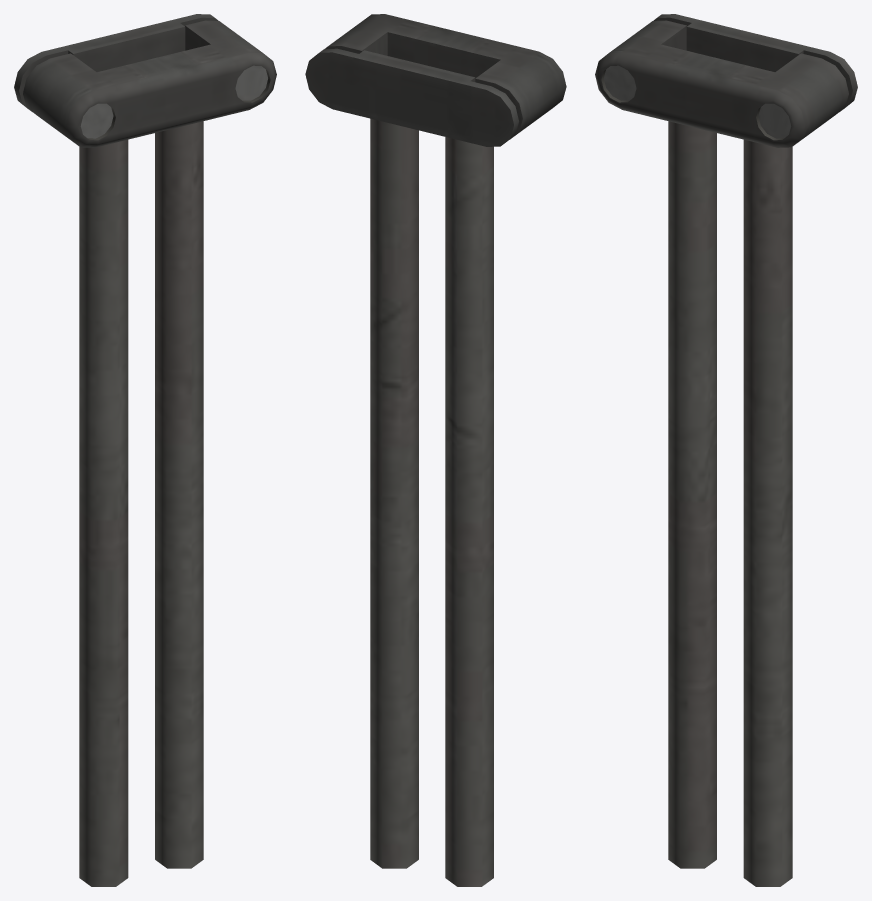
The model's file is cable_double.gltf.
3 renders of one model, left to right at view 1: azimuth 30°, elevation 25°; view 2: azimuth 150°, elevation 25°; view 3: azimuth 330°, elevation 25°, orthographic.
Visible parts, largest first — view 1: cable_double; view 2: cable_double; view 3: cable_double.
Boxes of the visible parts, x1=… form: cable_double: x1=14, y1=14, x2=276, y2=886; cable_double: x1=305, y1=14, x2=566, y2=886; cable_double: x1=595, y1=14, x2=857, y2=886.
Bounding box in the file's own units: 0.0556 × 0.2073 × 0.0259.
Materials: 1 (1 with a texture image).
